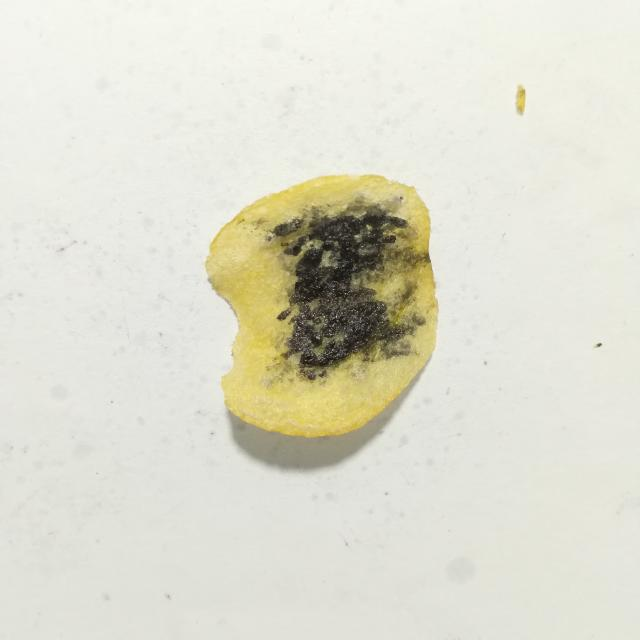chip: (206, 175, 438, 437)
damaged: (285, 211, 424, 379)
semi-damaged: (263, 221, 430, 387), (265, 193, 405, 249), (278, 259, 299, 320)
